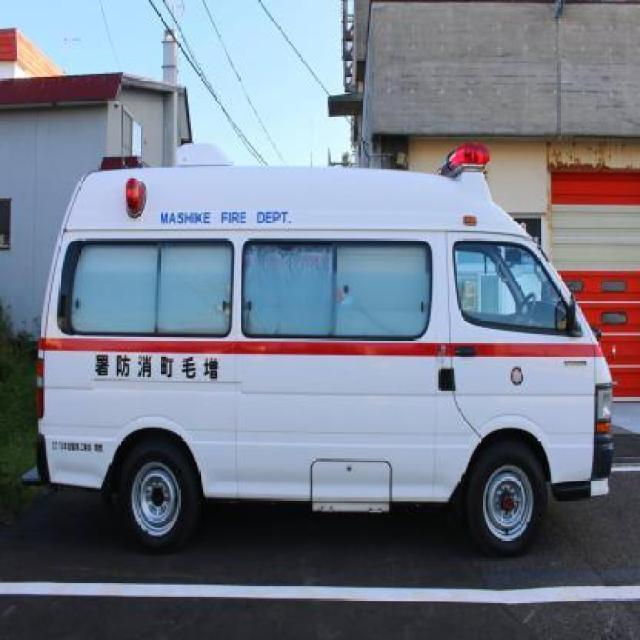emergency: (32, 139, 616, 556)
